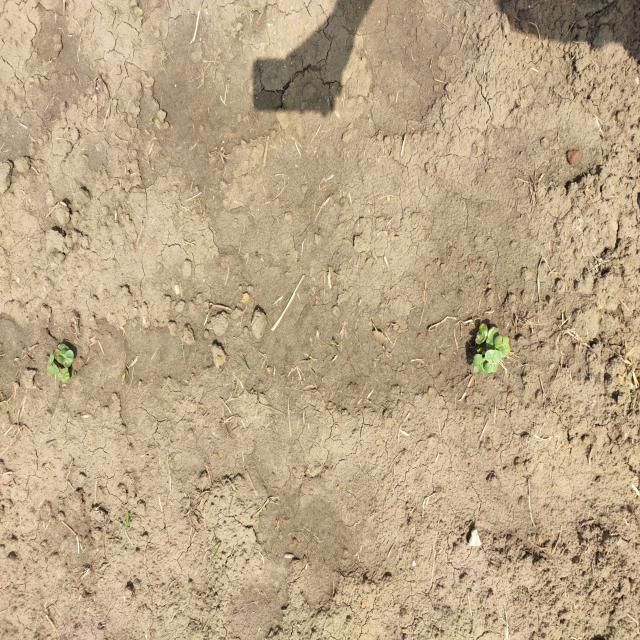seedling: (486, 327, 498, 350), (475, 323, 488, 344), (494, 335, 505, 358), (485, 349, 502, 362), (473, 354, 483, 375), (63, 350, 74, 367), (60, 367, 70, 383), (484, 362, 498, 373), (47, 364, 60, 375), (503, 336, 510, 356), (57, 349, 66, 363), (57, 344, 70, 351), (47, 353, 54, 366), (53, 349, 60, 361), (56, 371, 62, 382)
